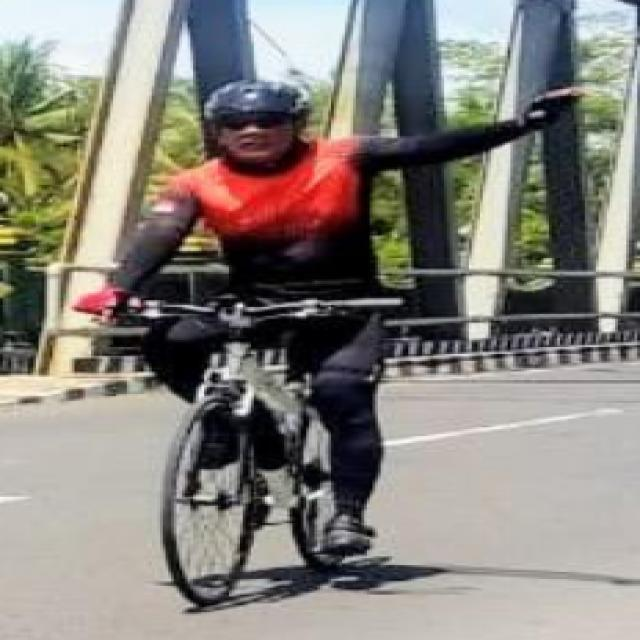car: (49, 268, 421, 610)
